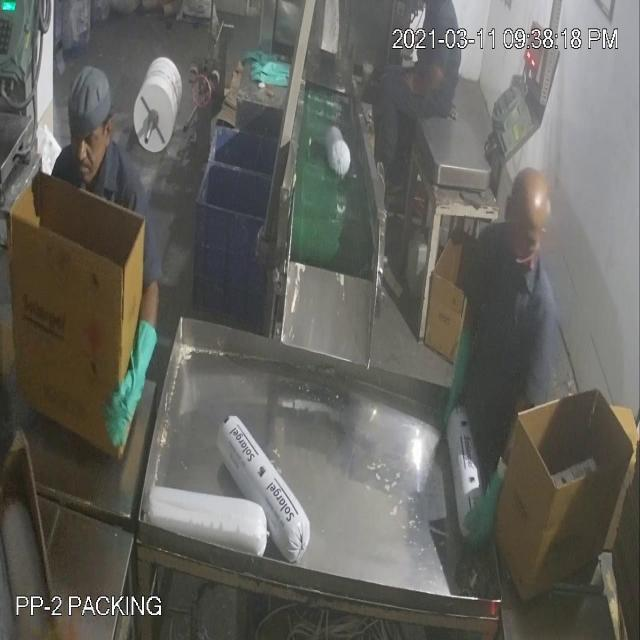Gloves: (46, 100, 487, 506)
